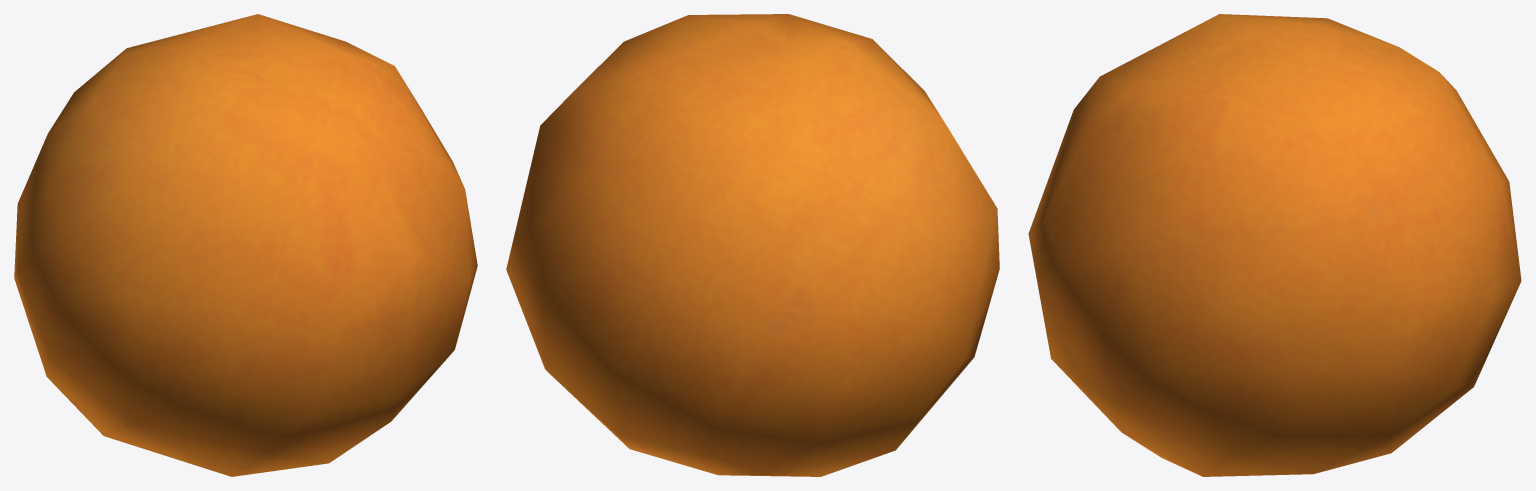
File: SM_Food_SM_Orange.fbx
3 renders of one model, left to right at view 1: azimuth 30°, elevation 25°; view 2: azimuth 150°, elevation 25°; view 3: azimuth 270°, elevation 25°, orthographic. The views are drawn at different scales.
Visible parts, largest first — view 1: SM_Food_SM_Orange_LOD0; view 2: SM_Food_SM_Orange_LOD0; view 3: SM_Food_SM_Orange_LOD0.
Boxes of the visible parts, <box> form: SM_Food_SM_Orange_LOD0: <box>14,14,477,476</box>; SM_Food_SM_Orange_LOD0: <box>506,14,999,476</box>; SM_Food_SM_Orange_LOD0: <box>1028,14,1521,476</box>.
Bounding box in the file's own units: 11.01 × 11.18 × 10.03.
